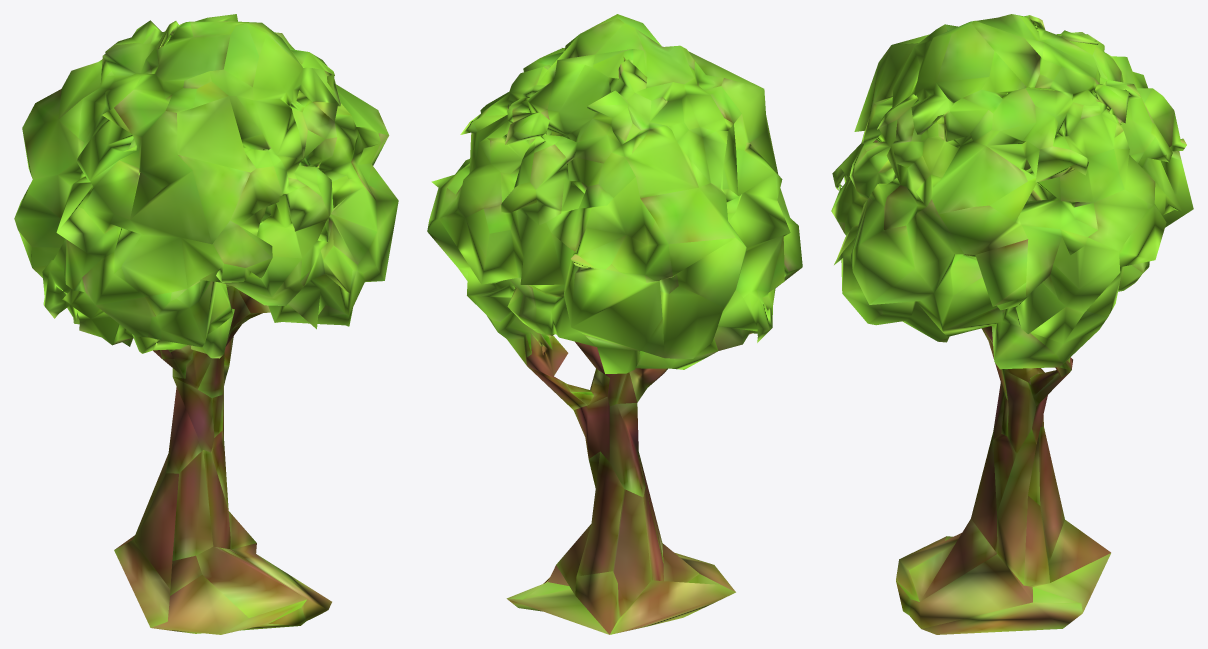
Rendered from tree.glb.
3 views of the same model, side by side, from view 1: azimuth 30°, elevation 25°; view 2: azimuth 150°, elevation 25°; view 3: azimuth 270°, elevation 25° (orthographic). The views are drawn at different scales.
Bounding box in the file's own units: 1.13 × 1.91 × 1.08.
1 material, 1 textured.
